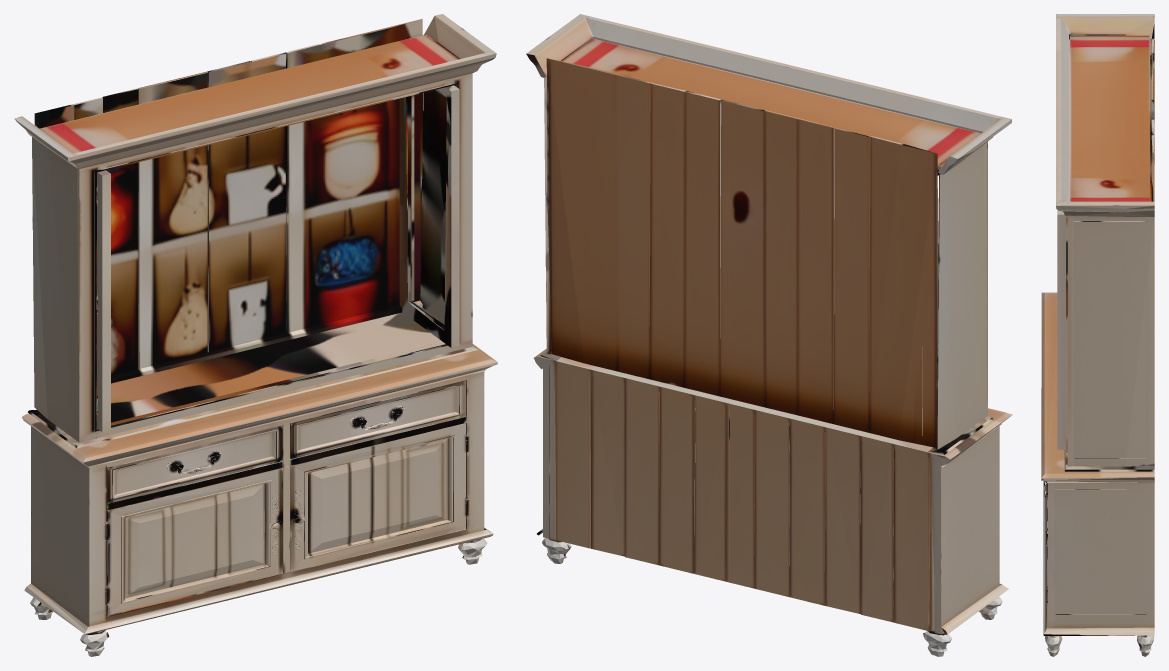
File: edited_mesh.glb
The picture shows the model from 3 angles, left to right: view 1: azimuth 30°, elevation 25°; view 2: azimuth 150°, elevation 25°; view 3: azimuth 270°, elevation 25°; orthographic projection. The views are drawn at different scales.
Parts seen in each view (by area): view 1: solid_001_wire; view 2: solid_001_wire; view 3: solid_001_wire.
Boxes of the visible parts, x1,y1,x2,y2 form: solid_001_wire: (14, 14, 497, 656); solid_001_wire: (526, 14, 1012, 656); solid_001_wire: (1041, 14, 1154, 656).
Bounding box in the file's own units: 1.23 × 1.38 × 0.3083.
1 material, 1 textured.
